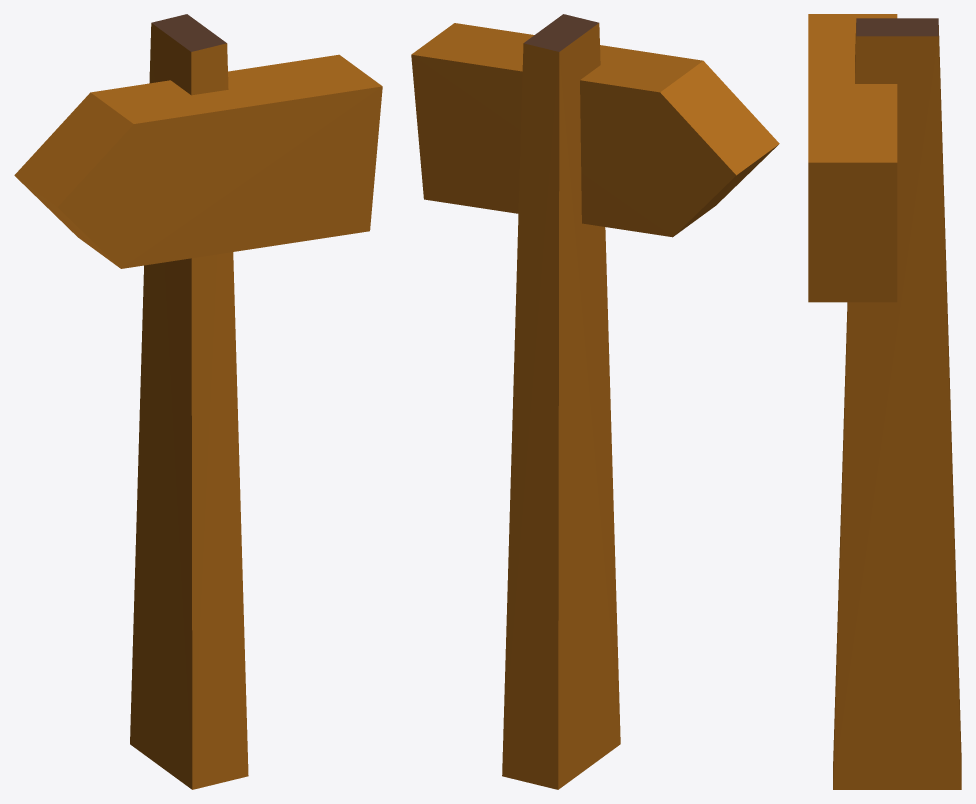
Rendered from dock-sign-butter.glb.
3 renders of one model, left to right at view 1: azimuth 30°, elevation 25°; view 2: azimuth 150°, elevation 25°; view 3: azimuth 270°, elevation 25°, orthographic. The views are drawn at different scales.
Parts seen in each view (by area): view 1: dock-sign-butter; view 2: dock-sign-butter; view 3: dock-sign-butter.
Boxes of the visible parts, x1=… form: dock-sign-butter: x1=14, y1=14, x2=382, y2=789; dock-sign-butter: x1=411, y1=14, x2=779, y2=789; dock-sign-butter: x1=808, y1=14, x2=961, y2=789.
Bounding box in the file's own units: 0.73 × 1.56 × 0.29.
